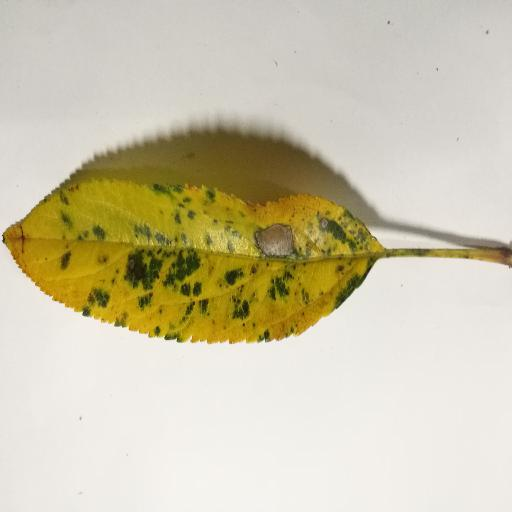Brown_Spot: (242, 221, 309, 264)
